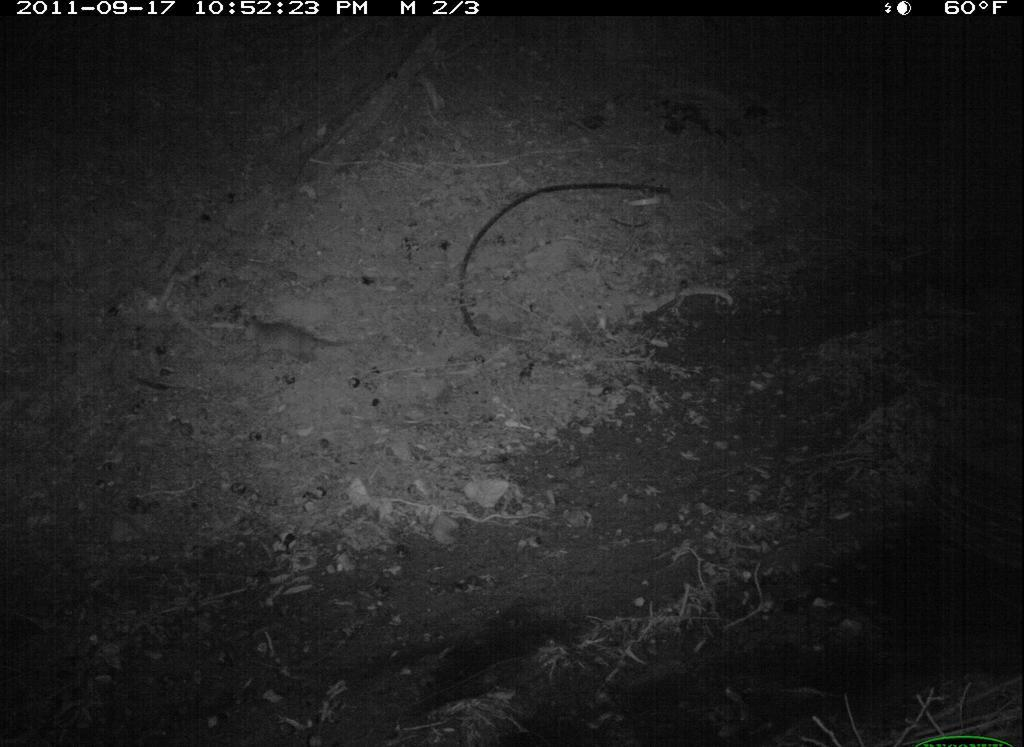opossum: (235, 306, 360, 377)
